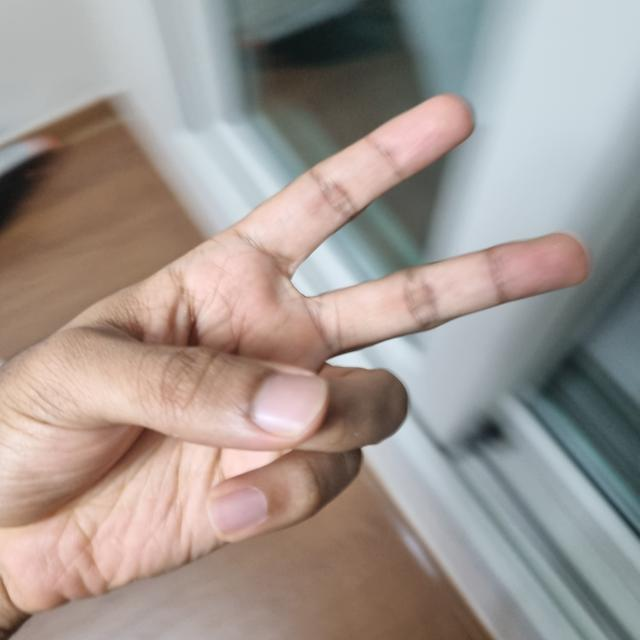Scissors: (3, 94, 593, 567)
